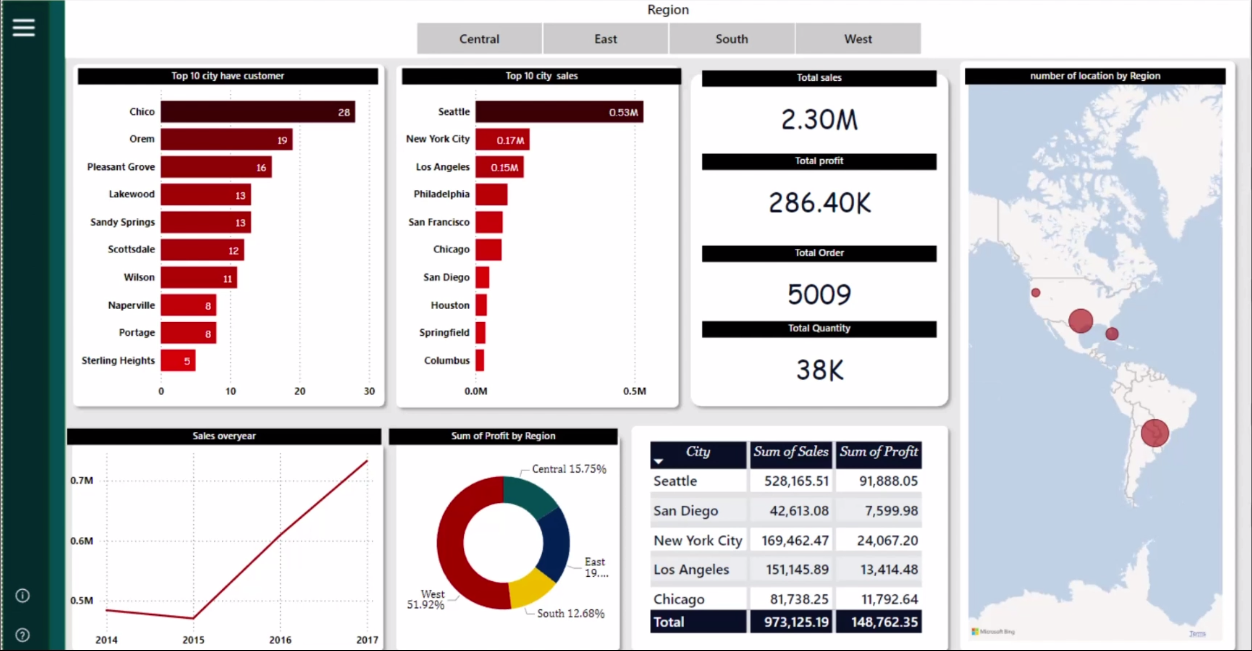

Layout of this report page (visuals, bound fields, positions):
{"tool":"powerbi","page":{"name":"Location","canvas":[1900,1000],"ordinal":1},"visuals":[{"type":"shape","title":"Close buttom","box":[358.8,0,1541.2,1000],"z":0,"group":"g2"},{"type":"actionButton","title":"Product","box":[36.8,352.9,308.8,61.8],"z":0,"group":"g1"},{"type":"shape","box":[950,638.3,500,361.7],"z":0},{"type":"actionButton","title":"Qs","box":[17.1,936,31.1,59],"z":0,"group":"g3"},{"type":"shape","title":"Flyout","box":[85.3,0,273.5,1000],"z":1000,"group":"g2"},{"type":"actionButton","title":"Location","box":[36.8,184.3,308.8,61.8],"z":1000,"group":"g1"},{"type":"tableEx","fields":{"Values":["DIMlocation.City","Sum(Forder.Sales)","Sum(Forder.Profit)"]},"box":[981.7,666.7,435,313.3],"z":1000},{"type":"actionButton","title":"Info","box":[17.1,877,31.1,59],"z":1000,"group":"g3"},{"type":"actionButton","title":"Menu Button","box":[11.7,0,44.7,82.7],"z":2000,"group":"g3"},{"type":"group","id":"g1","title":"page","box":[35.3,100,310.3,314.7],"z":2000,"group":"g2"},{"type":"actionButton","title":"Customer","box":[35.3,268.6,308.8,61.8],"z":2000,"group":"g1"},{"type":"shape","box":[98.3,665,491.7,335],"z":2000},{"type":"shape","box":[1450,83.3,436.7,916.7],"z":3000},{"type":"actionButton","title":"Sales","box":[36.8,100,308.8,61.8],"z":3000,"group":"g1"},{"type":"map","title":"number of location by Region","fields":{"Category":["DIMlocation.Region"],"Size":["CountNonNull(DIMlocation.Postal Code)"]},"box":[1466.7,103.3,396.7,876.7],"z":4000},{"type":"shape","box":[1040,103.3,410,523.3],"z":5000},{"type":"lineChart","title":"Sales overyear","fields":{"Y":["Sum(Forder.Sales)"],"Category":["DimDate.order Date.Variation.Date Hierarchy.Year","DimDate.order Date.Variation.Date Hierarchy.Quarter","DimDate.order Date.Variation.Date Hierarchy.Month"]},"box":[100,651.7,478.3,341.7],"z":6000},{"type":"slicer","title":"Region","fields":{"Values":["DIMlocation.Region"]},"box":[606.7,0,816.7,88.3],"z":7000},{"type":"shape","box":[591.7,651.7,358.3,348.3],"z":8000},{"type":"donutChart","fields":{"Category":["DIMlocation.Region"],"Y":["Sum(Forder.Profit)"]},"box":[590,651.7,348.3,328.3],"z":9000},{"type":"shape","box":[100,88.3,491.7,538.3],"z":12000},{"type":"barChart","title":"Top 10 city have customer","fields":{"Category":["DIMlocation.City"],"Y":["CountNonNull(Forder.Customer ID)"]},"box":[116.7,103.3,456.7,511.7],"z":13000},{"type":"card","title":"Total sales","fields":{"Values":["Sum(Forder.Sales)"]},"box":[1066.7,106.7,356.7,126.7],"z":14000},{"type":"card","title":"Total profit","fields":{"Values":["Sum(Forder.Profit)"]},"box":[1066.7,233.3,356.7,126.7],"z":15000},{"type":"card","title":"Total Order","fields":{"Values":["Count(Forder.Order ID)"]},"box":[1066.7,373.3,356.7,126.7],"z":16000},{"type":"card","title":"Total Quantity","fields":{"Values":["Sum(Forder.Quantity)"]},"box":[1066.7,488.3,356.7,126.7],"z":17000},{"type":"shape","box":[591.7,90,448.3,538.3],"z":18000},{"type":"barChart","title":"Top 10 city  sales","fields":{"Category":["DIMlocation.City"],"Y":["Sum(Forder.Sales)"]},"box":[610,103.3,425,511.7],"z":19000},{"type":"group","id":"g2","title":"opject","box":[35.3,0,1864.7,1000],"z":19250},{"type":"group","id":"g3","title":"Menu Bar","box":[11.7,0,45,993.3],"z":19500}]}

Visuals, with their boxes in screenshot pixels (x1, y1, x2, y2), scaled from the page's 1900x1000 canvas onto the 1252x651 screenshot:
"Close buttom" shape: [left=236, top=0, right=1251, bottom=650]
"Product" actionButton: [left=24, top=230, right=228, bottom=270]
shape: [left=626, top=416, right=955, bottom=650]
"Qs" actionButton: [left=11, top=609, right=32, bottom=648]
"Flyout" shape: [left=56, top=0, right=236, bottom=650]
"Location" actionButton: [left=24, top=120, right=228, bottom=160]
tableEx - DIMlocation.City x Sum(Forder.Sales): [left=647, top=434, right=934, bottom=638]
"Info" actionButton: [left=11, top=571, right=32, bottom=609]
"Menu Button" actionButton: [left=8, top=0, right=37, bottom=54]
"page" group: [left=23, top=65, right=228, bottom=270]
"Customer" actionButton: [left=23, top=175, right=227, bottom=215]
shape: [left=65, top=433, right=389, bottom=650]
shape: [left=955, top=54, right=1243, bottom=650]
"Sales" actionButton: [left=24, top=65, right=228, bottom=105]
"number of location by Region" map: [left=966, top=67, right=1228, bottom=638]
shape: [left=685, top=67, right=955, bottom=408]
"Sales overyear" lineChart: [left=66, top=424, right=381, bottom=647]
"Region" slicer: [left=400, top=0, right=938, bottom=57]
shape: [left=390, top=424, right=626, bottom=650]
donutChart - DIMlocation.Region x Sum(Forder.Profit): [left=389, top=424, right=618, bottom=638]
shape: [left=66, top=57, right=390, bottom=408]
"Top 10 city have customer" barChart: [left=77, top=67, right=378, bottom=400]
"Total sales" card: [left=703, top=69, right=938, bottom=152]
"Total profit" card: [left=703, top=152, right=938, bottom=234]
"Total Order" card: [left=703, top=243, right=938, bottom=326]
"Total Quantity" card: [left=703, top=318, right=938, bottom=400]
shape: [left=390, top=59, right=685, bottom=409]
"Top 10 city  sales" barChart: [left=402, top=67, right=682, bottom=400]
"opject" group: [left=23, top=0, right=1251, bottom=650]
"Menu Bar" group: [left=8, top=0, right=37, bottom=647]
